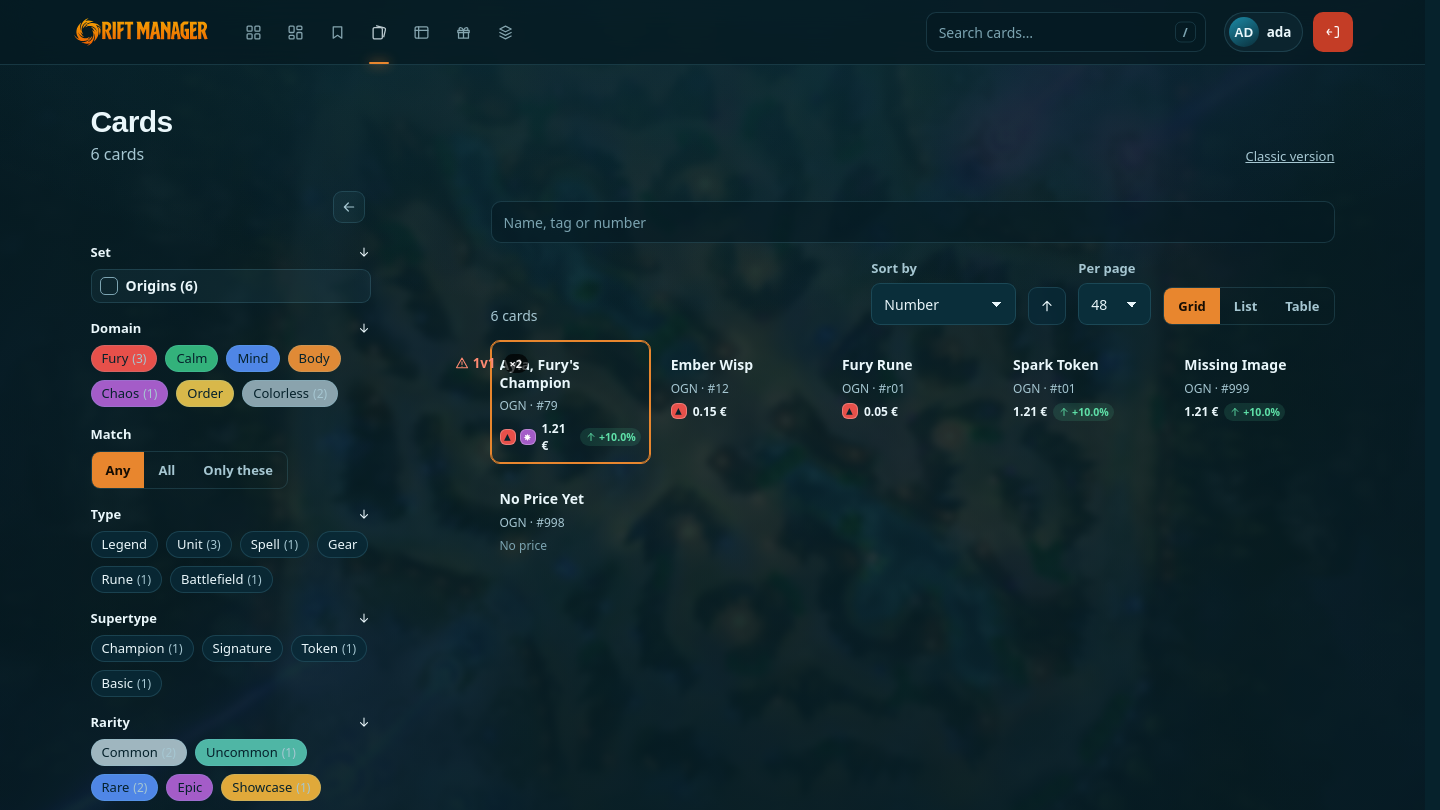
Test: CatalogPreview (F2-i S5) › selects another tile with replace and updates the preview
Expected: the button "Ayla, Fury's Champion OGN · #79 1.21 € +10.0%" is shown, [490,341,650,463]
Click the button "Ember Wisp OGN · #12 0.15 €".
click(712, 385)  # box [662,341,762,428]
(page scrolled)
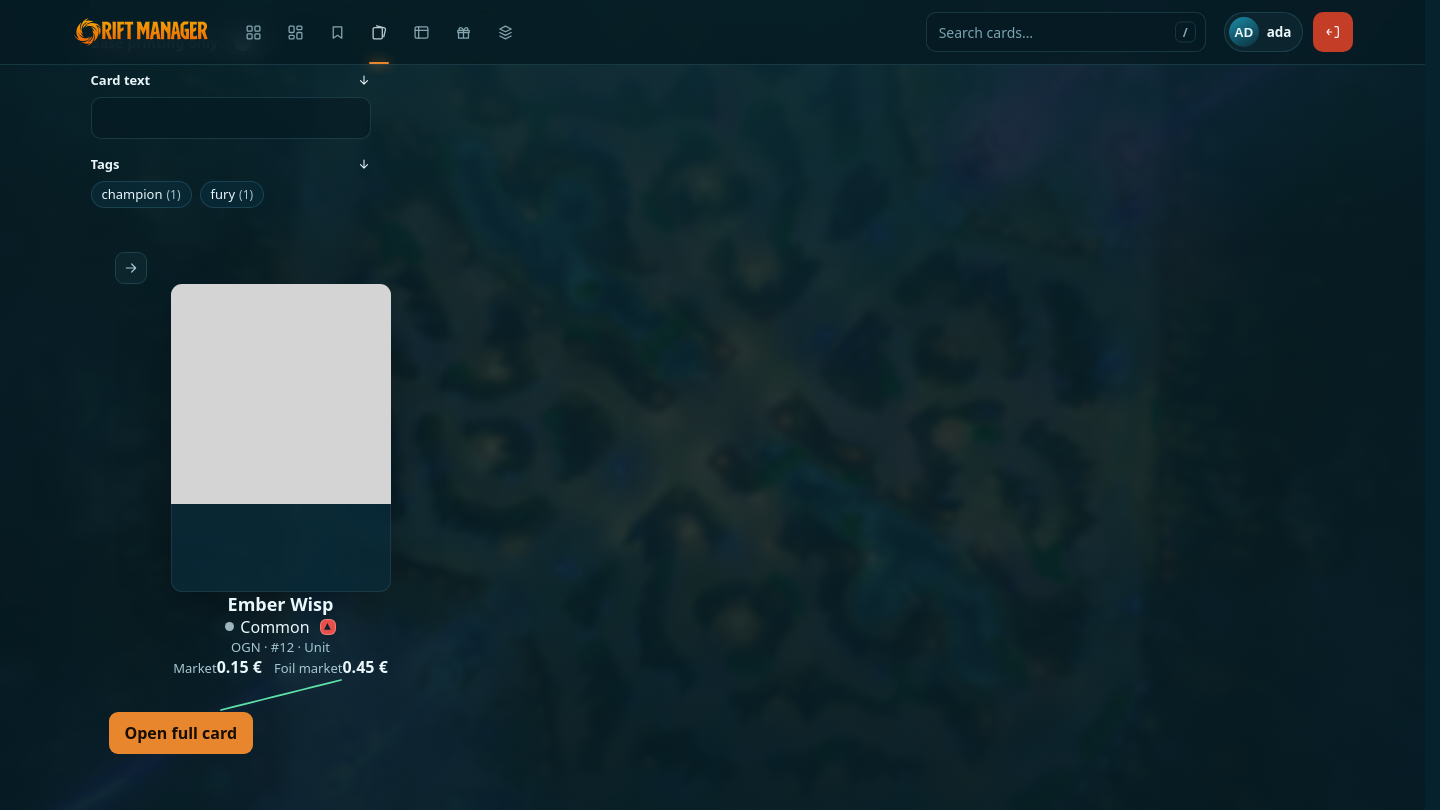
Expected: the heading "Ember Wisp" is shown, [228,592,333,616]
